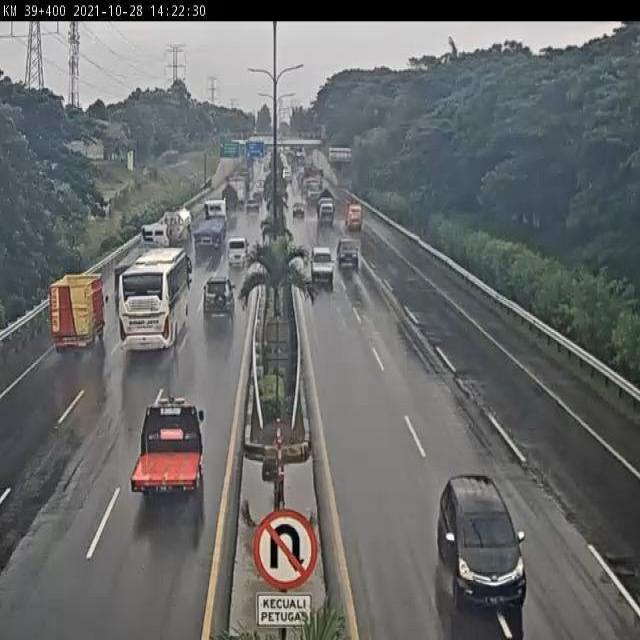bus-l-: (117, 249, 192, 352)
car: (437, 475, 528, 609), (203, 276, 235, 316), (311, 248, 334, 288), (226, 236, 249, 268), (337, 238, 359, 266)
truck-m-: (158, 203, 194, 248)
truck-s-: (130, 396, 203, 493), (47, 270, 106, 350)
truck-xl-: (116, 220, 174, 276), (193, 195, 228, 249)
